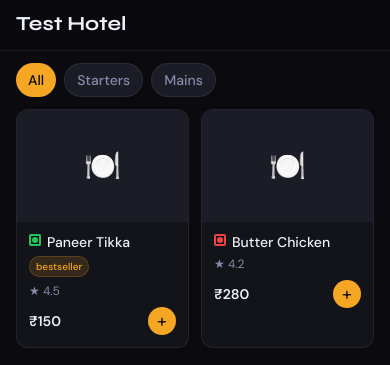
Test: PF01 - Menu Screen › Category filter shows correct items
This screenshot has width=390, height=365.
Expected: the text "Paneer Tikka" is shown, [47,233,130,251]
Expected: the text "Butter Chicken" is shown, [232,233,330,251]
// Click Starters tab
Click the tab "Starters" at x=104, y=80, box [64,63,143,97]
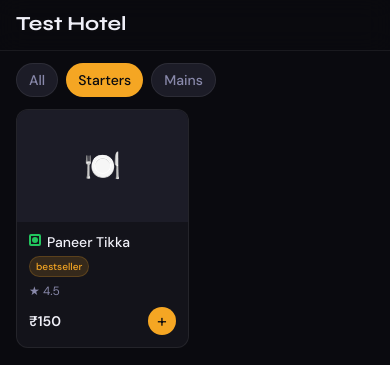
Expected: the text "Paneer Tikka" is shown, [47,233,130,251]
Expected: the text "Butter Chicken" is gone
// Click Mains tab
Click the tab "Mains" at x=184, y=80, box [151,63,216,97]
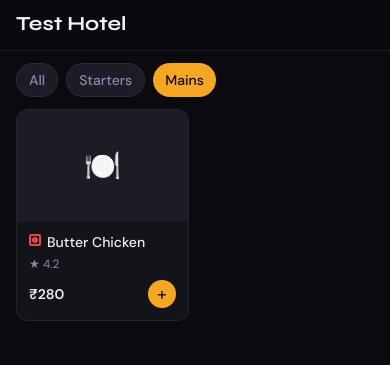
Expected: the text "Paneer Tikka" is gone
Expected: the text "Butter Chicken" is shown, [47,233,145,251]
